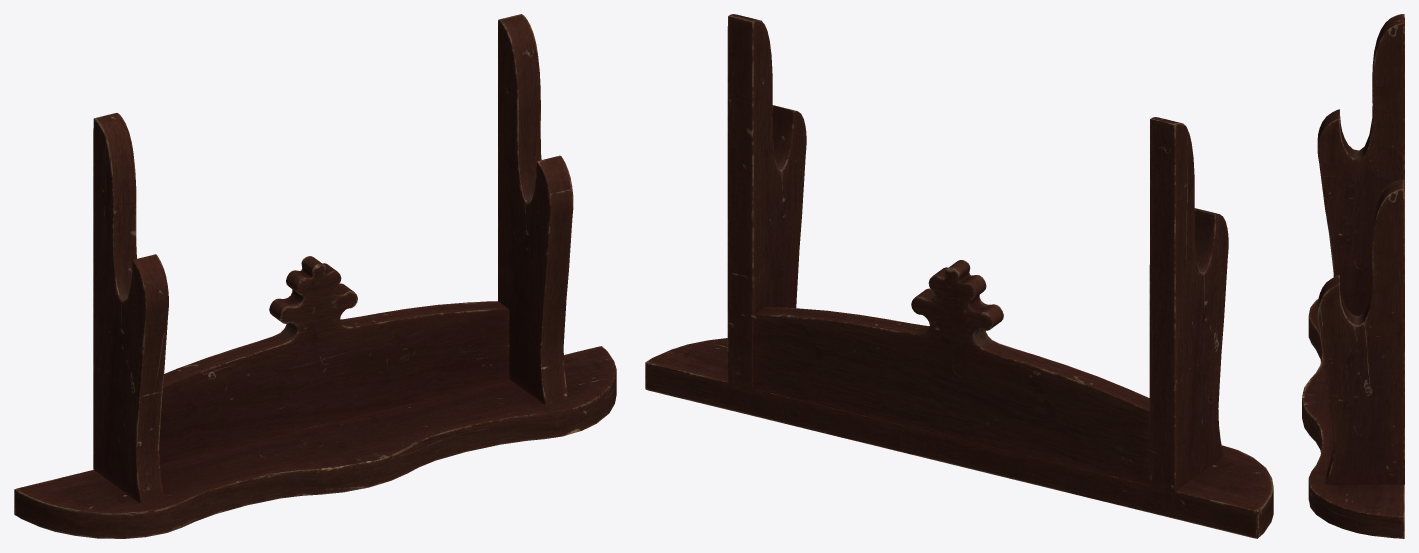
Rendered from katana_stand_01.glb.
3 renders of one model, left to right at view 1: azimuth 30°, elevation 25°; view 2: azimuth 150°, elevation 25°; view 3: azimuth 270°, elevation 25°, orthographic. The views are drawn at different scales.
Parts seen in each view (by area): view 1: katana_stand_01; view 2: katana_stand_01; view 3: katana_stand_01.
Boxes of the visible parts, x1=… form: katana_stand_01: x1=14, y1=14, x2=616, y2=538; katana_stand_01: x1=645, y1=14, x2=1273, y2=538; katana_stand_01: x1=1302, y1=14, x2=1404, y2=538.
Bounding box in the file's own units: 0.2958 × 0.1819 × 0.0535.
Materials: 1 (1 with a texture image).
